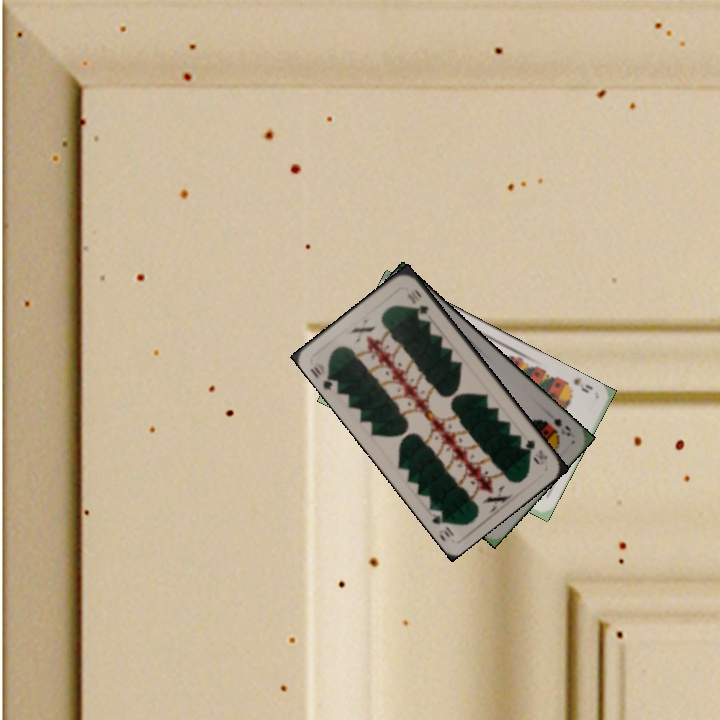G10: (306, 362, 341, 393), (521, 436, 550, 466)
S9: (558, 374, 595, 396)
SO: (549, 414, 574, 439)
